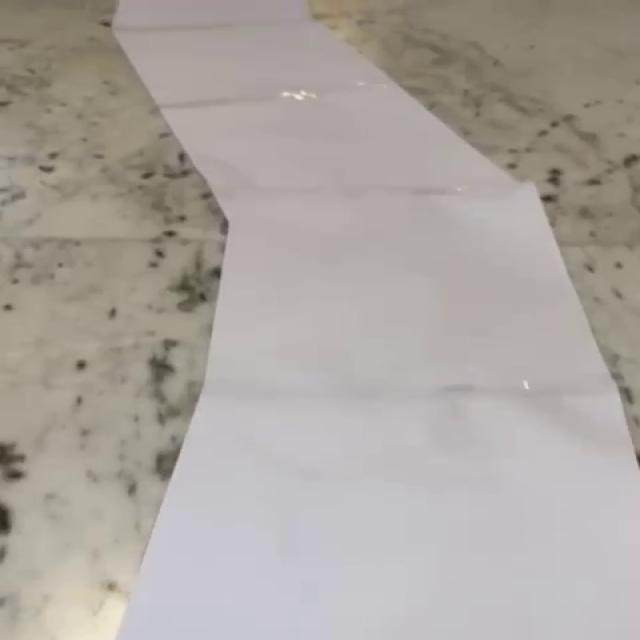road: (116, 0, 637, 640)
